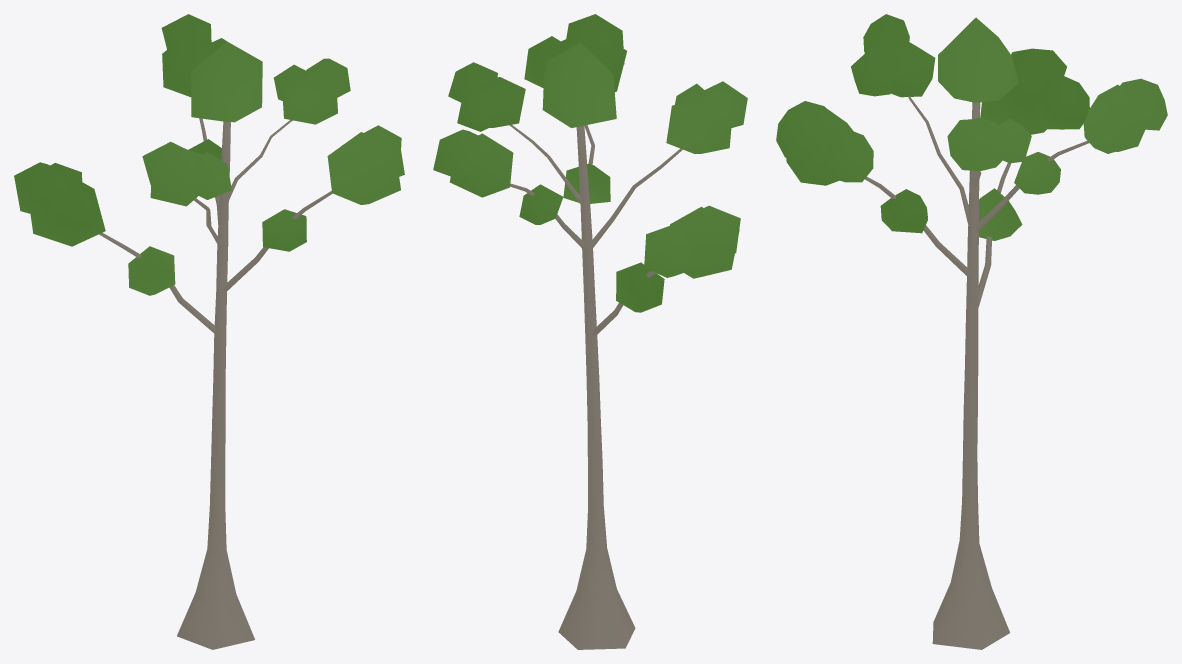
Rendered from Blender_WaterTupelo_1_Far.glb.
3 renders of one model, left to right at view 1: azimuth 30°, elevation 25°; view 2: azimuth 150°, elevation 25°; view 3: azimuth 270°, elevation 25°, orthographic. The views are drawn at different scales.
Parts seen in each view (by area): view 1: Blender_WaterTupelo_1_Far; view 2: Blender_WaterTupelo_1_Far; view 3: Blender_WaterTupelo_1_Far.
Part boxes in pixels (bbox=[...]): Blender_WaterTupelo_1_Far: bbox=[14, 14, 404, 649]; Blender_WaterTupelo_1_Far: bbox=[433, 14, 747, 649]; Blender_WaterTupelo_1_Far: bbox=[776, 14, 1167, 649].
Size of the model in its own units: 13.46 by 24.93 by 14.21.
